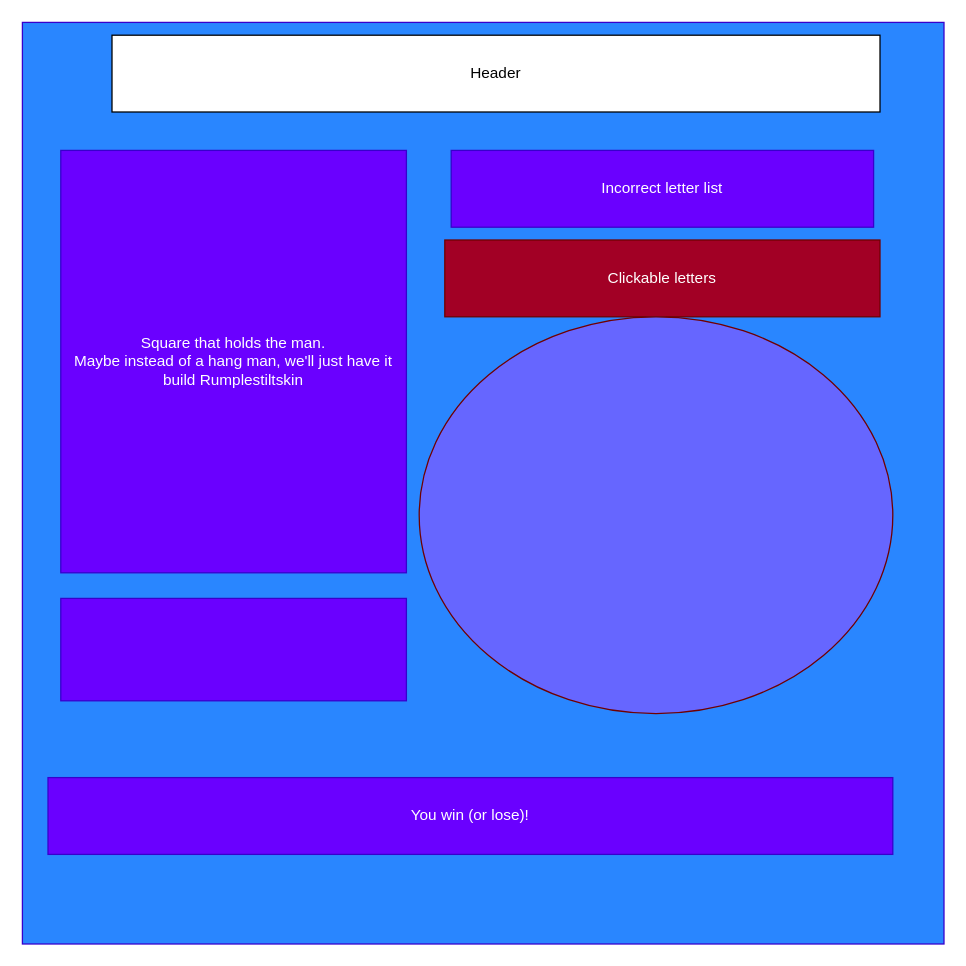
This 966x966 diagram has some shape labels left out. Each missing label, with the centre of its shape:
"Animated space background" belongs at [655,515].
"Word Spaces" belongs at [233,649].
